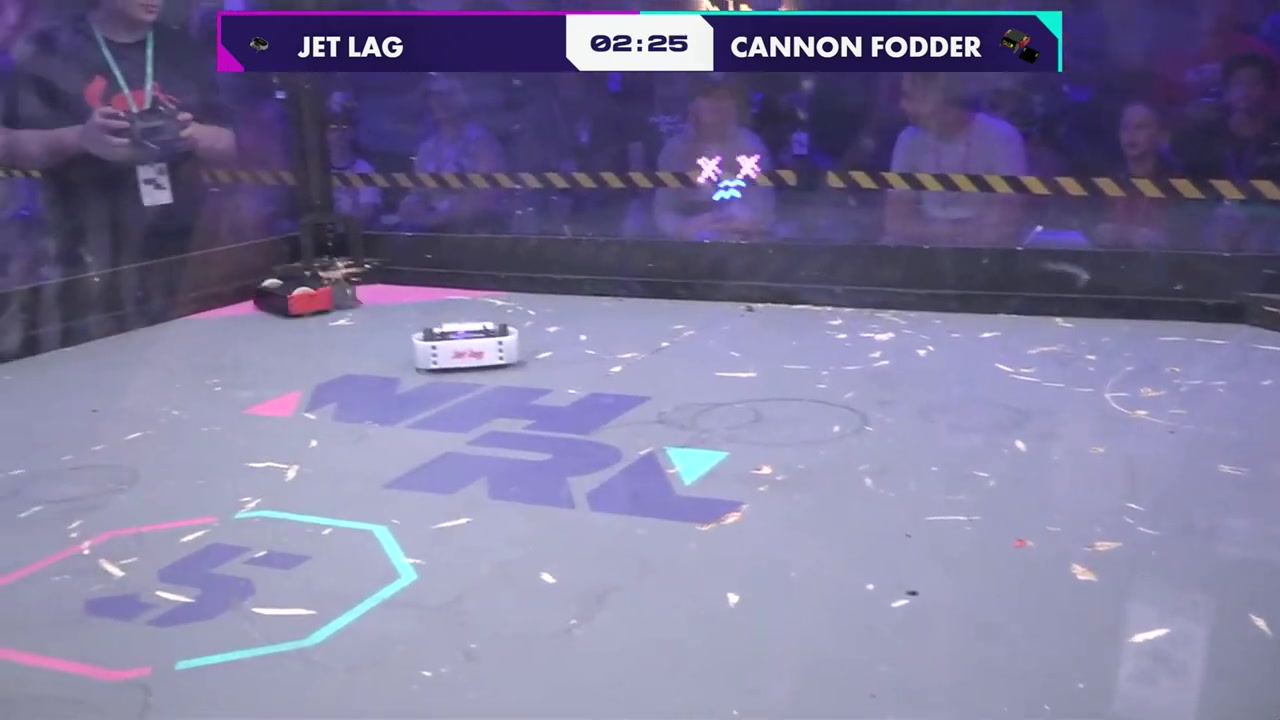combatbot: (252, 263, 361, 319), (410, 318, 517, 374)
